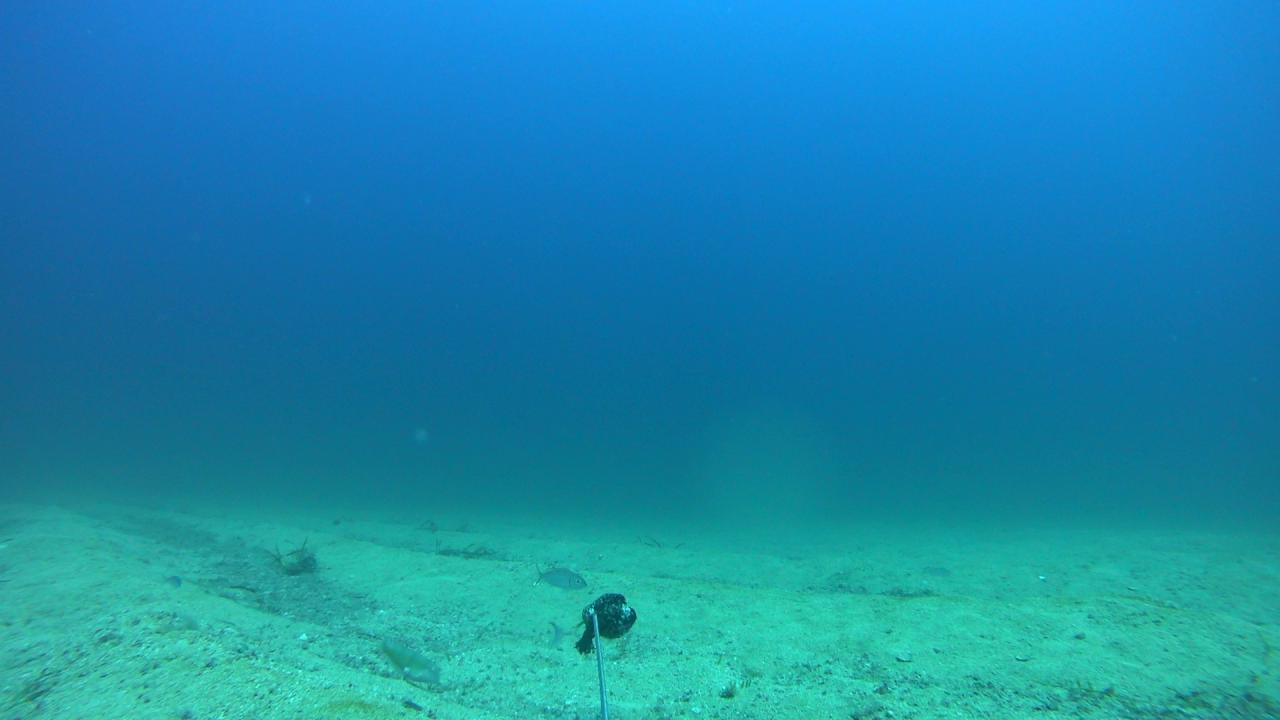pagellus: (534, 562, 588, 590)
raor: (377, 634, 441, 686)
